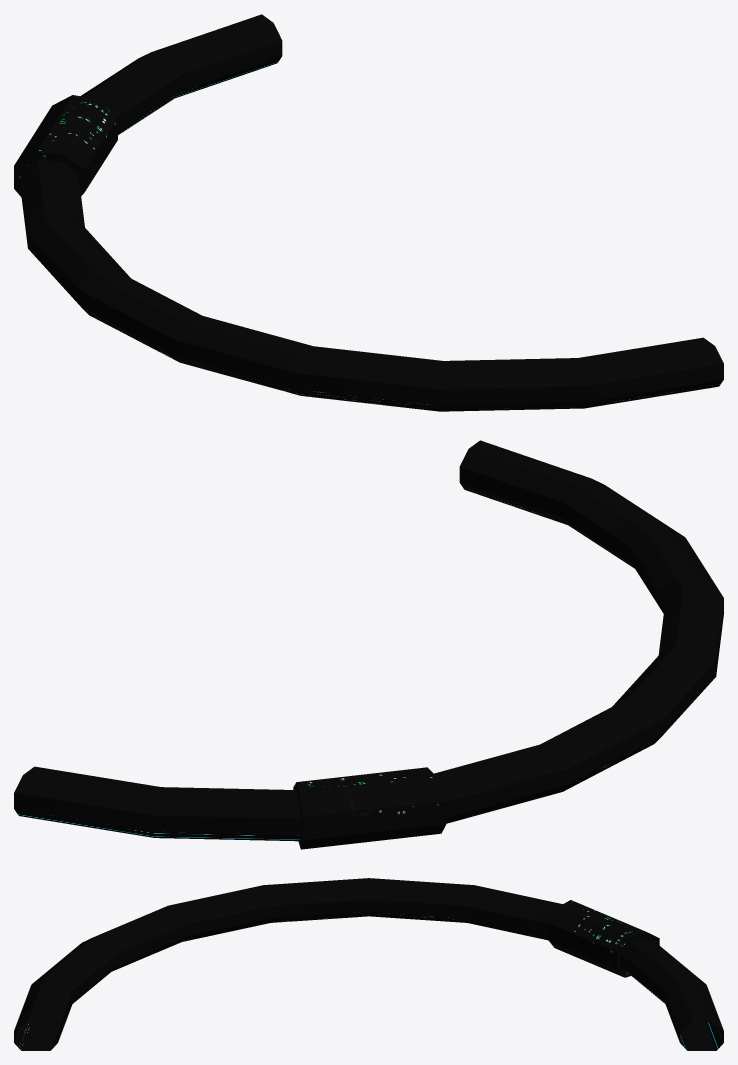
The model's file is Pipe_02_Art.fbx.
3 renders of one model, top to bottom at view 1: azimuth 30°, elevation 25°; view 2: azimuth 150°, elevation 25°; view 3: azimuth 270°, elevation 25°, orthographic. The views are drawn at different scales.
Visible parts, largest first — view 1: Pipe_02; view 2: Pipe_02; view 3: Pipe_02.
Part boxes in pixels (x1,y1,x2,y2): Pipe_02: (14,14,723,411); Pipe_02: (14,440,723,849); Pipe_02: (14,878,723,1050).
Bounding box in the file's own units: 2.3 × 0.2801 × 4.6.
